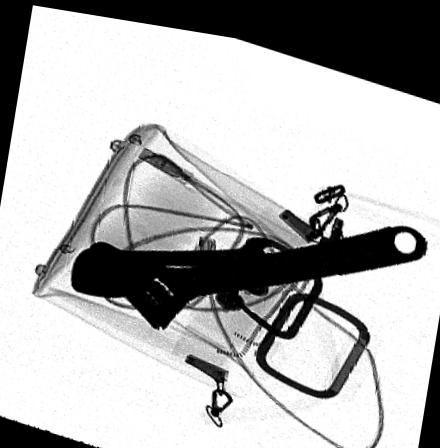Wrench: (70, 209, 429, 325)
